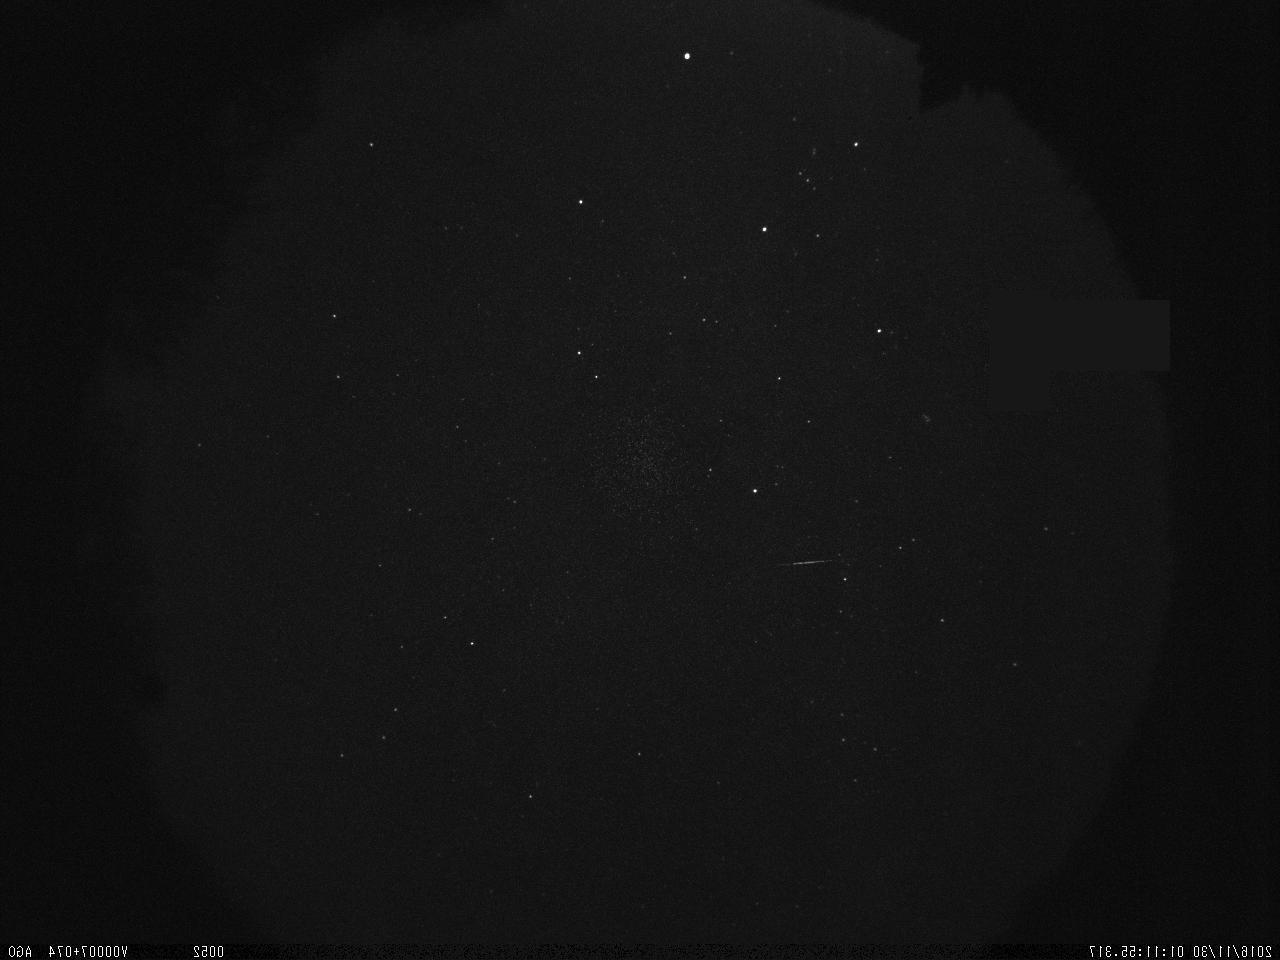meteor: (773, 552, 834, 580)
